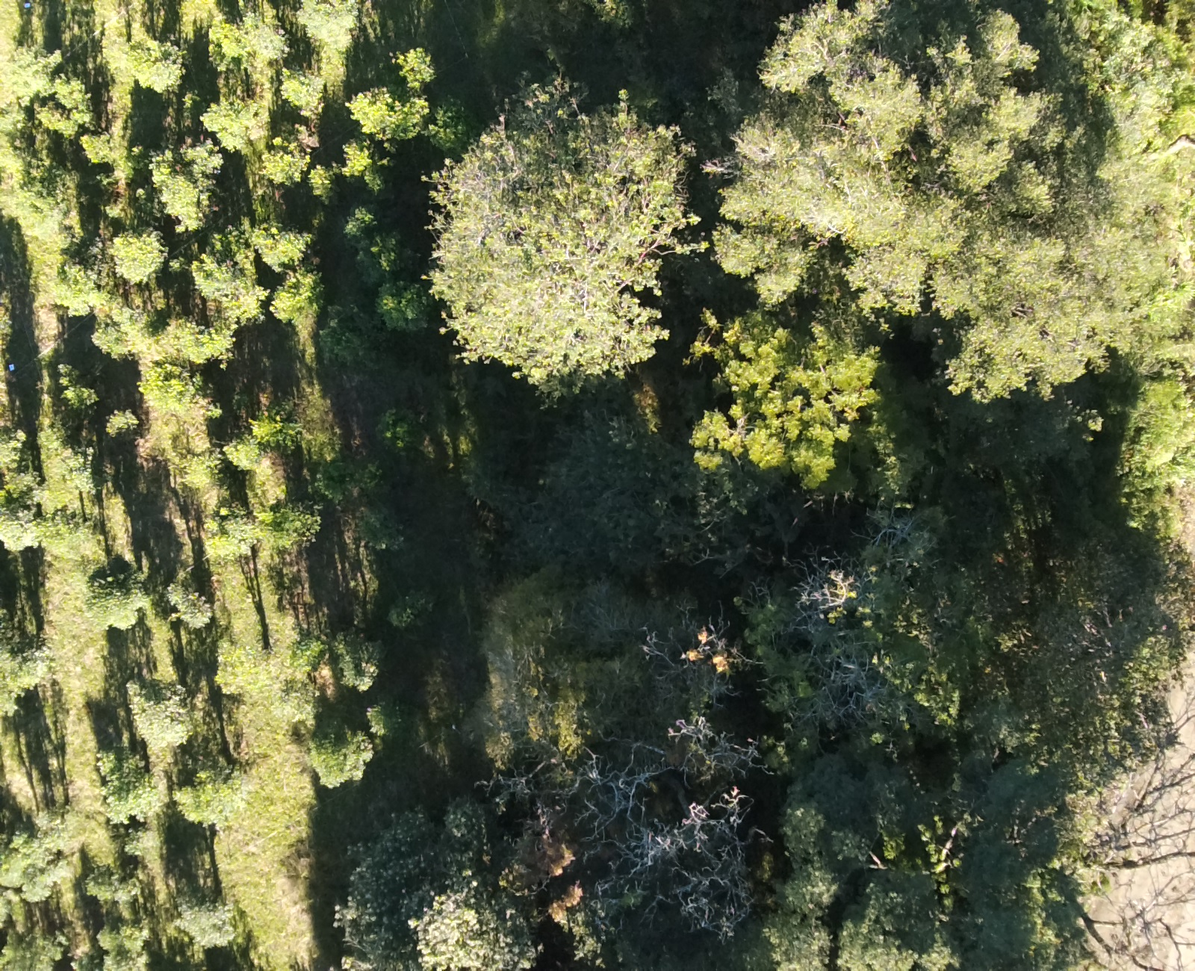erva: (296, 724, 368, 791), (181, 760, 252, 826), (92, 751, 157, 820), (171, 890, 242, 948), (84, 572, 149, 632), (256, 498, 323, 551), (167, 580, 228, 633), (1, 630, 54, 686), (332, 632, 382, 689), (4, 822, 49, 885), (32, 804, 93, 849), (201, 500, 260, 540), (0, 502, 42, 558), (362, 695, 413, 736), (391, 582, 432, 630), (83, 864, 134, 902), (249, 406, 291, 445), (57, 368, 97, 407), (226, 434, 263, 470), (202, 531, 249, 559), (13, 877, 59, 903), (122, 828, 158, 860), (8, 462, 49, 489), (102, 409, 139, 438), (41, 860, 66, 878)
